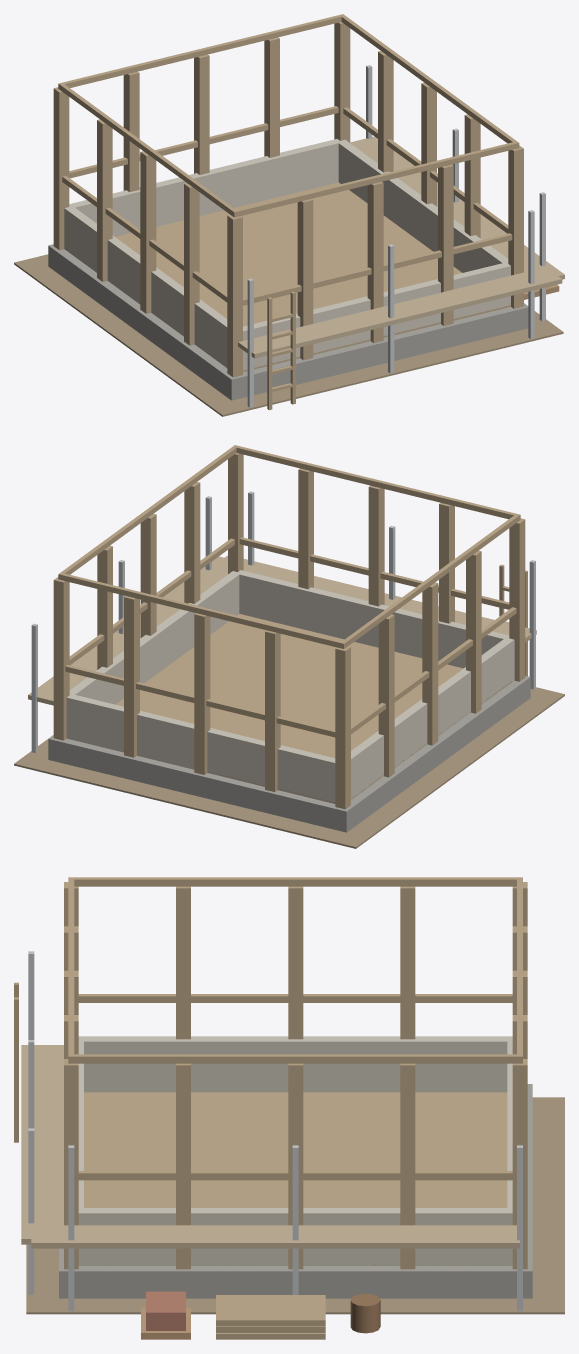
Rendered from bakery_site_5.glb.
3 renders of one model, top to bottom at view 1: azimuth 30°, elevation 25°; view 2: azimuth 150°, elevation 25°; view 3: azimuth 270°, elevation 25°, orthographic. The views are drawn at different scales.
Parts seen in each view (by area): view 1: body; view 2: body; view 3: body.
Part boxes in pixels (x1=…): body: x1=14, y1=14, x2=564, y2=416; body: x1=14, y1=445, x2=564, y2=848; body: x1=14, y1=877, x2=564, y2=1339.
Size of the model in its own units: 2.28 by 1.06 by 2.21.
